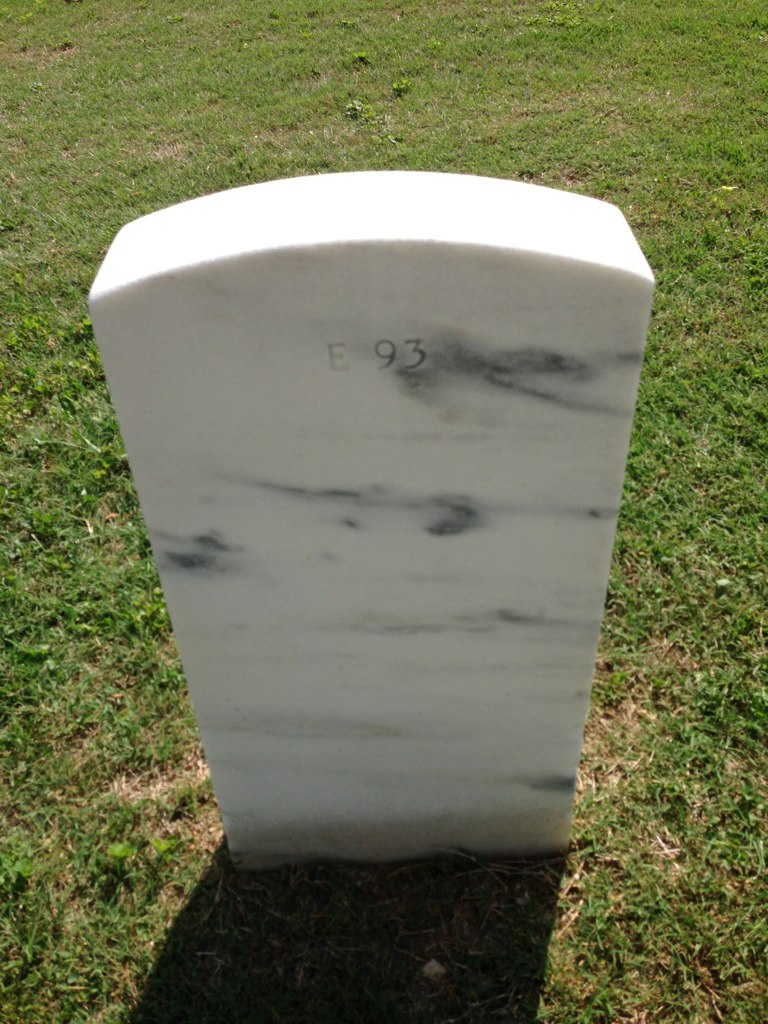military: (87, 181, 655, 859)
